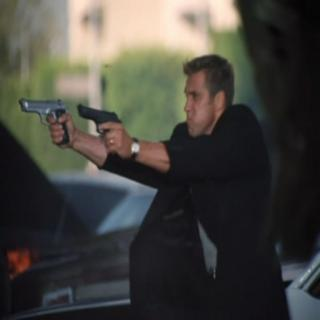gun: (16, 93, 72, 146), (75, 99, 127, 156)
